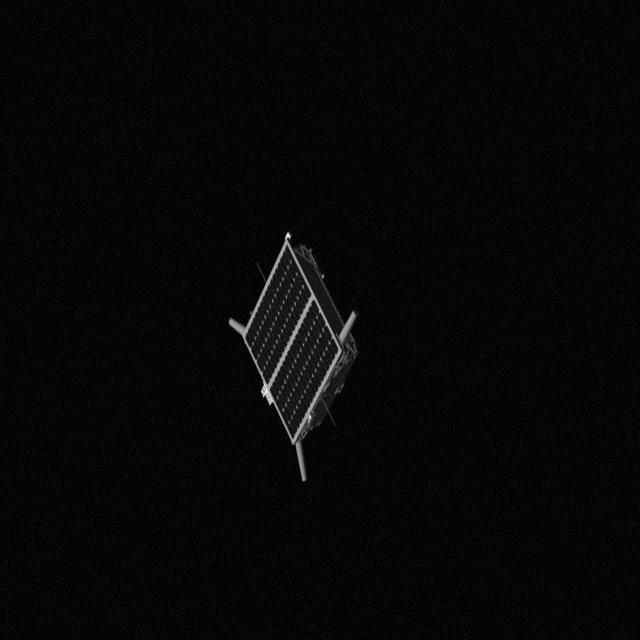satellite: (220, 224, 358, 492)
